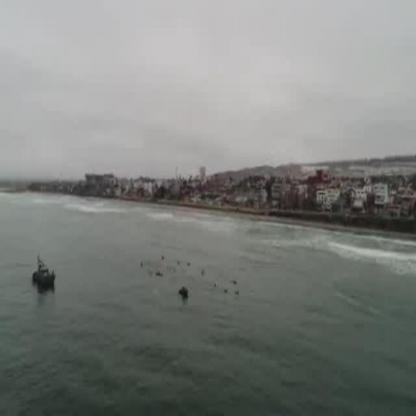Boat: (32, 255, 55, 296)
